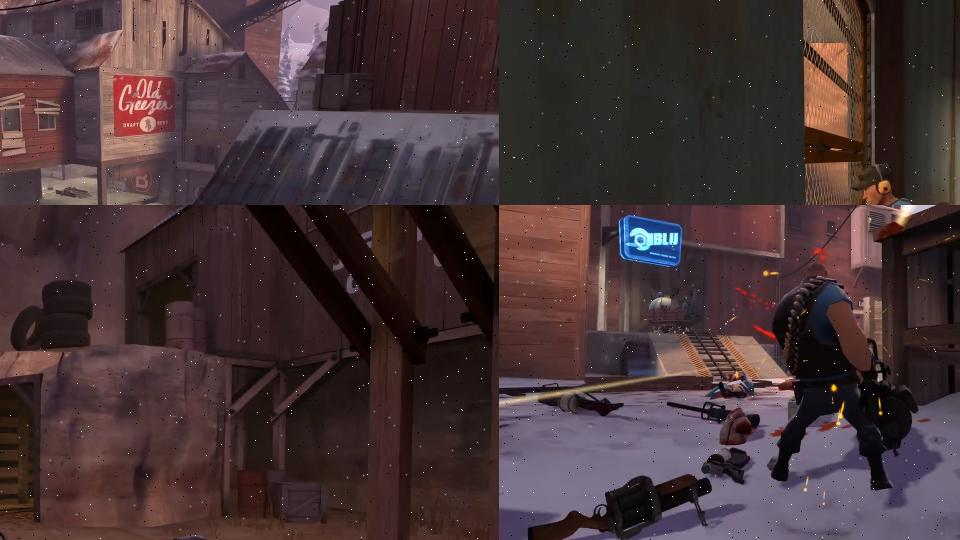Enemy: (770, 261, 921, 492), (705, 372, 754, 401)
